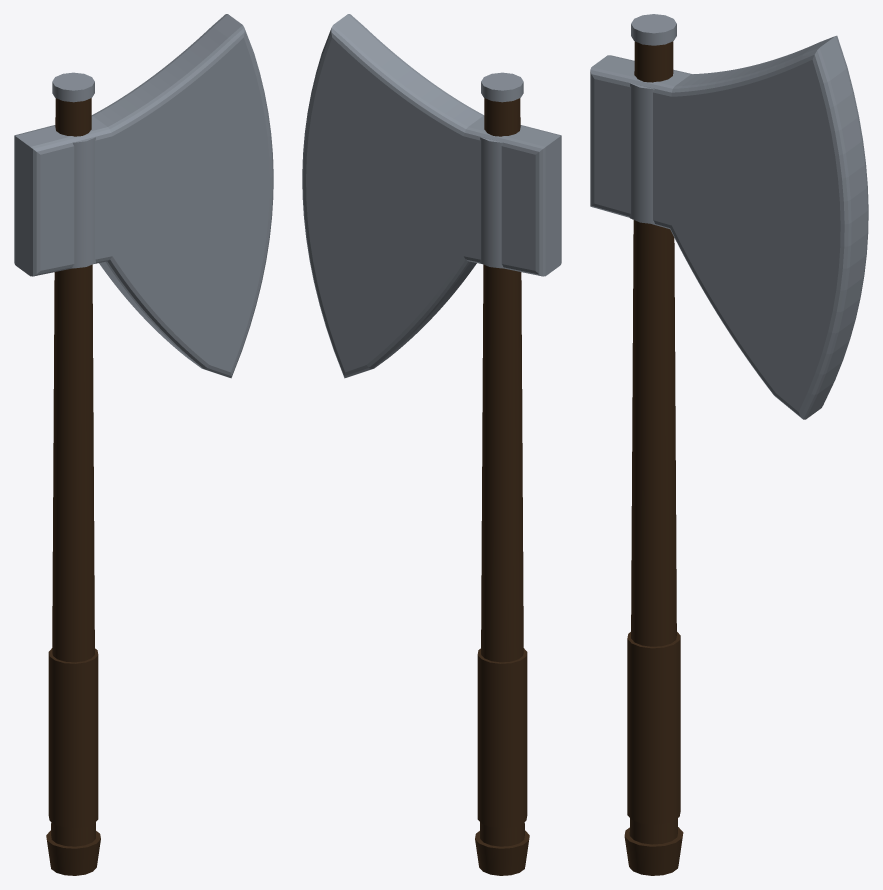
Rendered from axe.glb.
3 views of the same model, side by side, from view 1: azimuth 30°, elevation 25°; view 2: azimuth 150°, elevation 25°; view 3: azimuth 330°, elevation 25° (orthographic). The views are drawn at different scales.
Visible parts, largest first — view 1: head, haft, grip, eye, knob, wedge; view 2: head, haft, grip, eye, knob, wedge; view 3: head, haft, grip, eye, knob, wedge.
Boxes of the visible parts, x1=… form: head: x1=14, y1=14, x2=273, y2=378; haft: x1=51, y1=98, x2=95, y2=846; grip: x1=48, y1=648, x2=98, y2=828; eye: x1=71, y1=137, x2=95, y2=268; knob: x1=46, y1=830, x2=100, y2=875; wedge: x1=52, y1=72, x2=94, y2=102; head: x1=302, y1=14, x2=561, y2=378; haft: x1=480, y1=98, x2=524, y2=846; grip: x1=477, y1=648, x2=527, y2=828; eye: x1=480, y1=137, x2=504, y2=268; knob: x1=475, y1=830, x2=529, y2=875; wedge: x1=481, y1=72, x2=523, y2=102; head: x1=590, y1=35, x2=868, y2=419; haft: x1=629, y1=41, x2=677, y2=844; grip: x1=627, y1=632, x2=680, y2=824; eye: x1=629, y1=83, x2=654, y2=223; knob: x1=624, y1=827, x2=683, y2=875; wedge: x1=631, y1=14, x2=676, y2=45.
Bounding box in the file's own units: 0.2623 × 0.8344 × 0.052.
